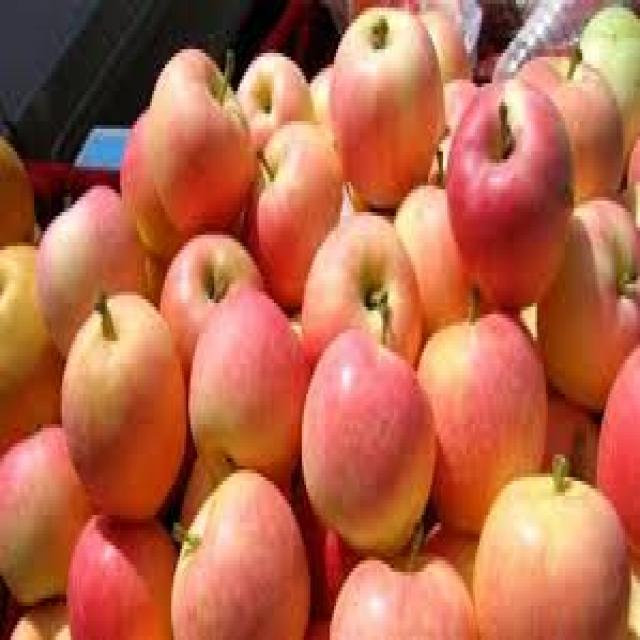organic waste: (298, 291, 432, 553), (413, 276, 546, 522), (469, 447, 627, 636), (60, 288, 186, 519), (445, 76, 574, 299), (186, 276, 308, 481), (167, 462, 308, 636), (329, 4, 438, 204), (539, 197, 638, 409), (148, 42, 255, 238), (299, 205, 422, 371), (32, 178, 144, 360), (392, 144, 501, 326), (244, 117, 340, 307), (509, 41, 623, 200), (0, 413, 92, 606), (328, 526, 478, 636), (66, 511, 176, 636), (0, 235, 62, 443), (120, 102, 193, 258), (593, 326, 638, 564), (289, 474, 351, 636), (580, 8, 638, 152), (236, 42, 314, 125), (540, 379, 600, 477), (426, 72, 477, 178), (0, 129, 39, 242), (422, 515, 475, 595), (167, 447, 210, 545), (418, 0, 467, 76), (6, 598, 77, 636), (306, 57, 330, 125), (625, 125, 638, 223)
